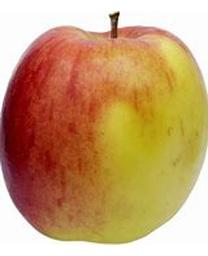apple: (1, 9, 207, 246)
